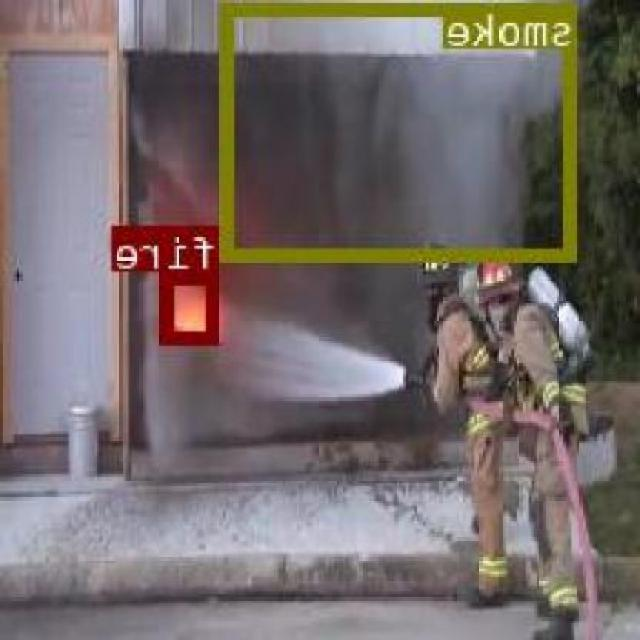Fire: (165, 270, 222, 342)
Smoke: (226, 1, 580, 258)
